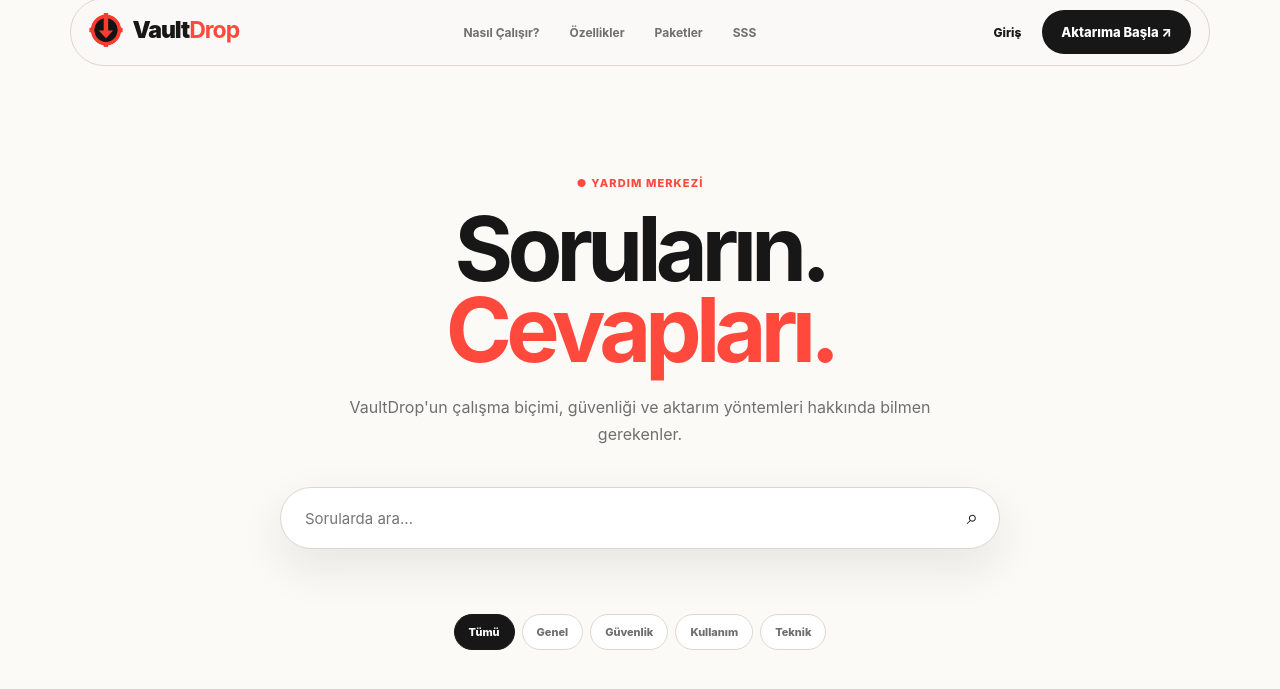
Scenario: FaqPage › eşleşme olmadığında açıklayıcı mesaj gösterir
In the search field: (640, 518) [280,487,1000,549], type "bulunmayan-soru"
(page scrolled)
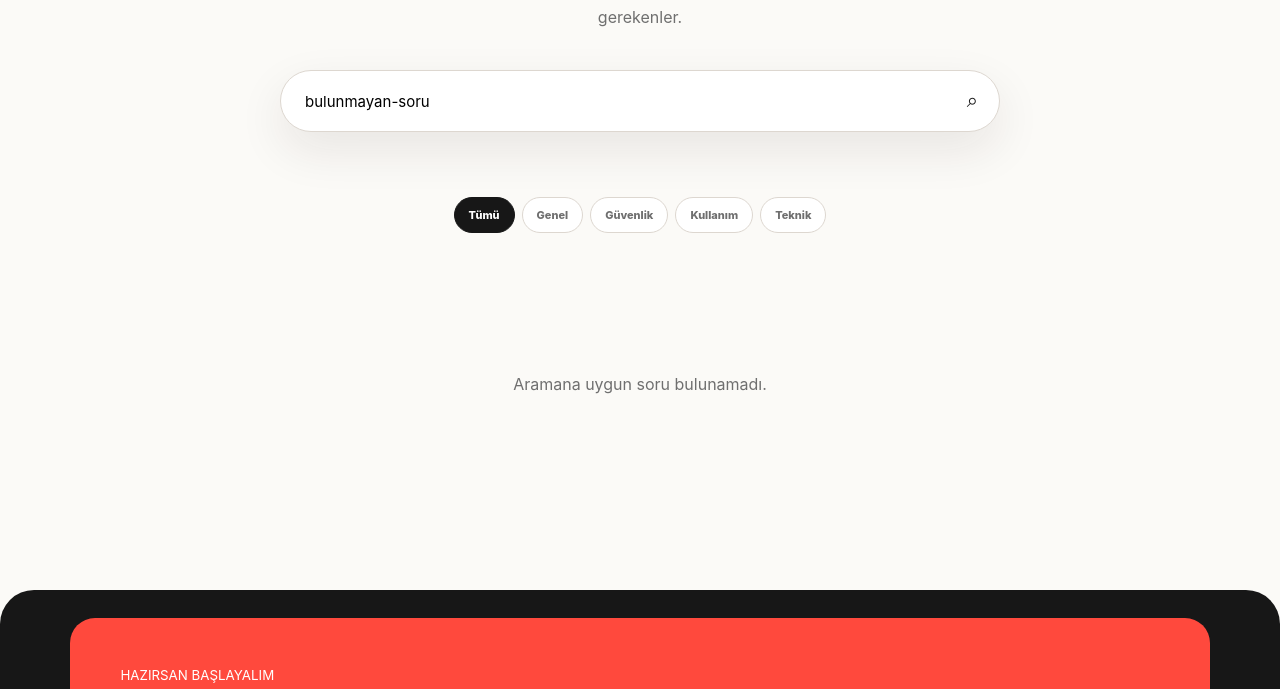
Expected: the text "Aramana uygun soru bulunamadı." is shown, [513,374,767,394]
